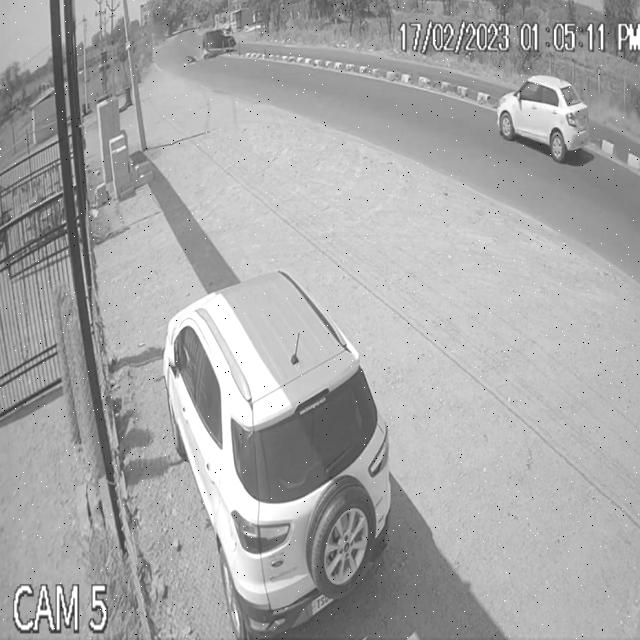accident: (187, 23, 240, 71)
